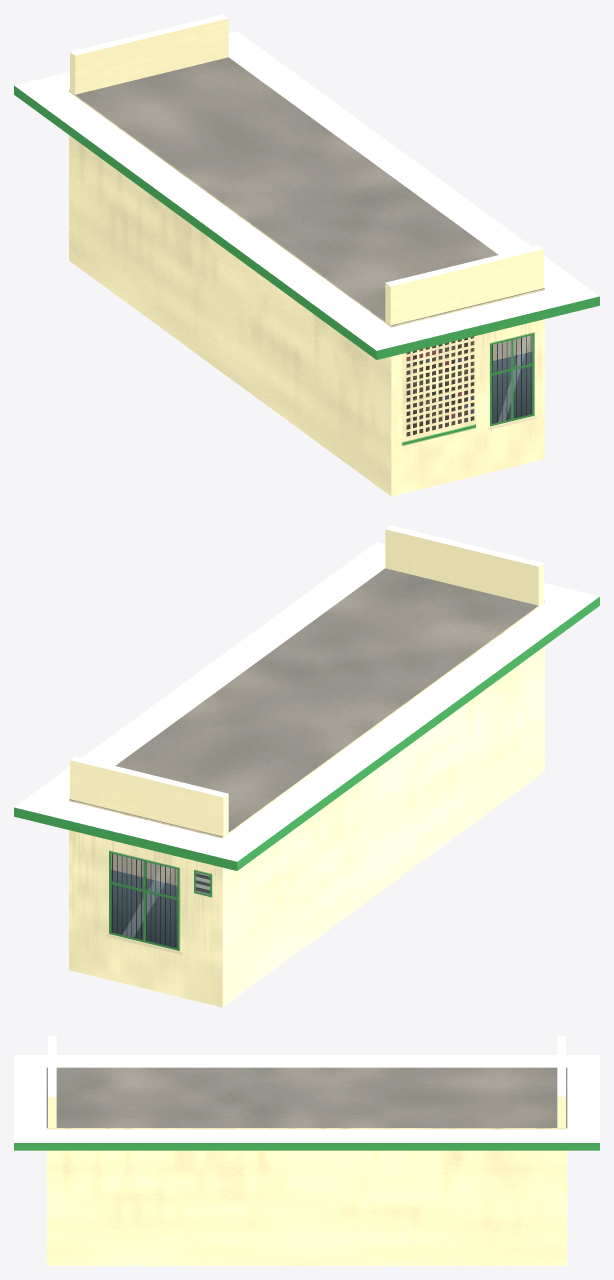
Rendered from residential.glb.
3 views of the same model, one above another, from view 1: azimuth 30°, elevation 25°; view 2: azimuth 150°, elevation 25°; view 3: azimuth 270°, elevation 25° (orthographic). The views are drawn at different scales.
Visible parts, largest first — view 1: Residential; view 2: Residential; view 3: Residential.
Boxes of the visible parts, x1,y1,x2,y2 form: Residential: [14, 14, 599, 496]; Residential: [14, 525, 599, 1007]; Residential: [14, 1036, 599, 1265].
Size of the model in its own units: 4.8 by 4.3 by 13.5.
1 material, 1 textured.
